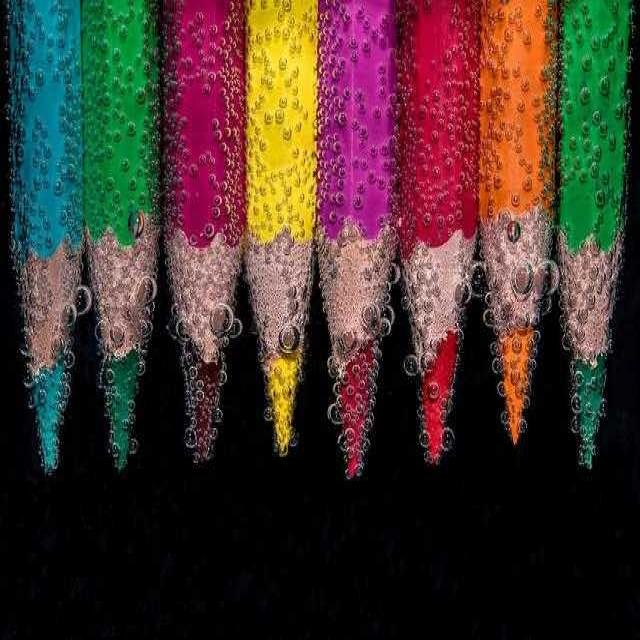pencil: (79, 0, 166, 488), (1, 0, 85, 497), (163, 0, 250, 479), (398, 0, 484, 483), (317, 0, 400, 497), (558, 0, 634, 513), (481, 0, 560, 490), (245, 0, 325, 474)
